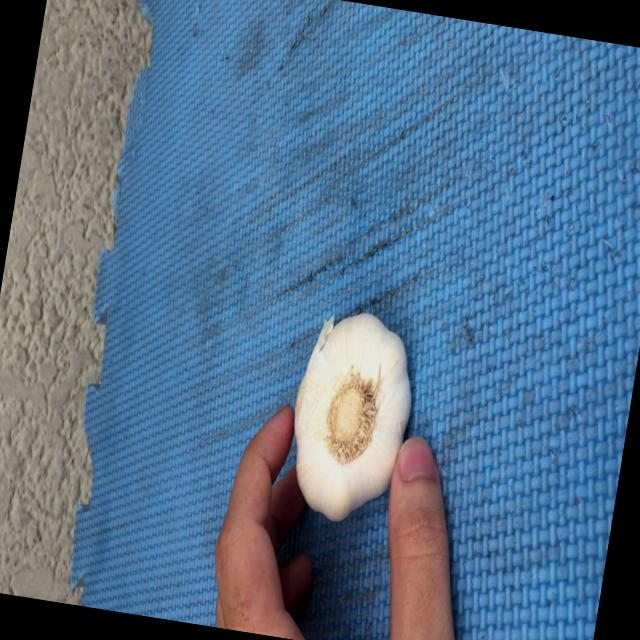bawang: (272, 298, 436, 536)
